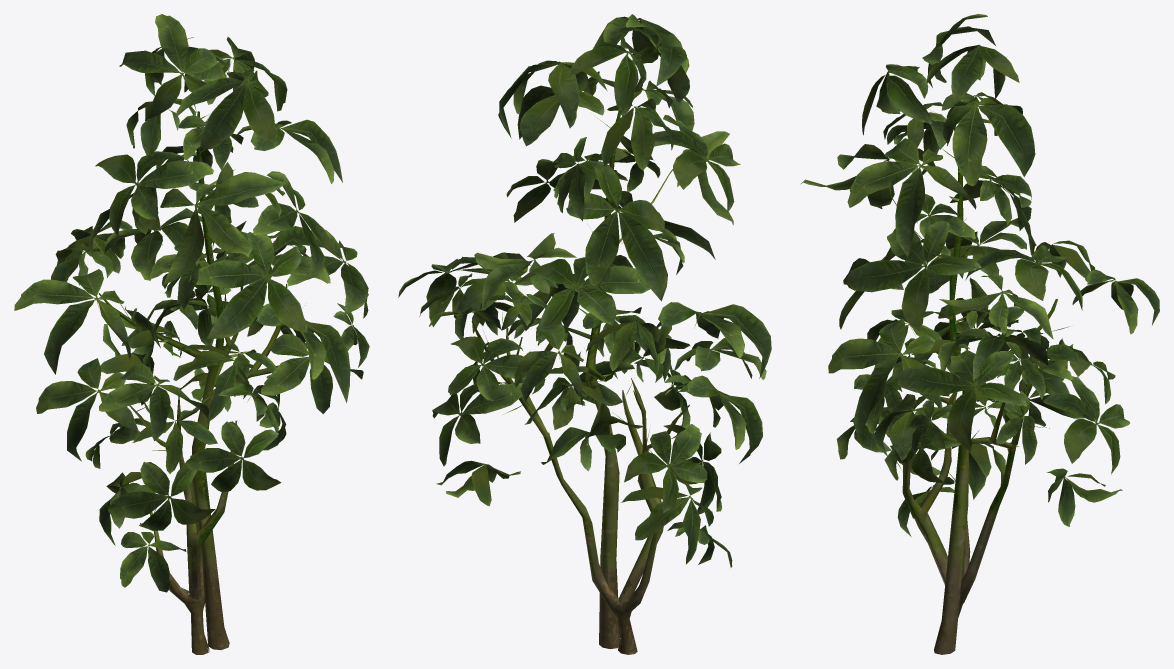
File: plante_pachira.glb
3 renders of one model, left to right at view 1: azimuth 30°, elevation 25°; view 2: azimuth 150°, elevation 25°; view 3: azimuth 270°, elevation 25°, orthographic. The views are drawn at different scales.
Parts seen in each view (by area): view 1: pachira_aquatica_01_leaves_d, pachira_aquatica_01_bark_d; view 2: pachira_aquatica_01_leaves_d, pachira_aquatica_01_bark_d; view 3: pachira_aquatica_01_leaves_d, pachira_aquatica_01_bark_d.
Boxes of the visible parts, left/top/right/bottom form: pachira_aquatica_01_leaves_d: left=14, top=14, right=369, bottom=592; pachira_aquatica_01_bark_d: left=98, top=111, right=287, bottom=654; pachira_aquatica_01_leaves_d: left=398, top=14, right=771, bottom=567; pachira_aquatica_01_bark_d: left=471, top=111, right=689, bottom=654; pachira_aquatica_01_leaves_d: left=801, top=14, right=1159, bottom=536; pachira_aquatica_01_bark_d: left=902, top=126, right=1057, bottom=654.
Bounding box in the file's own units: 1.06 × 1.9 × 0.9985.
Materials: 2 (2 with a texture image).
